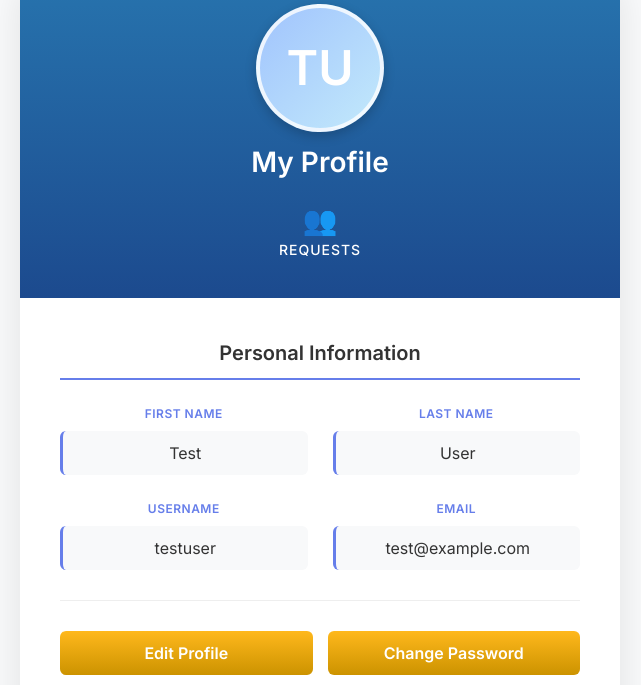
Test case: Profile Component › Viewing Own Profile › allows changing password
This screenshot has width=641, height=685.
Click the button "Change Password" at (454, 653), box x1=328 y1=631 x2=580 y2=675
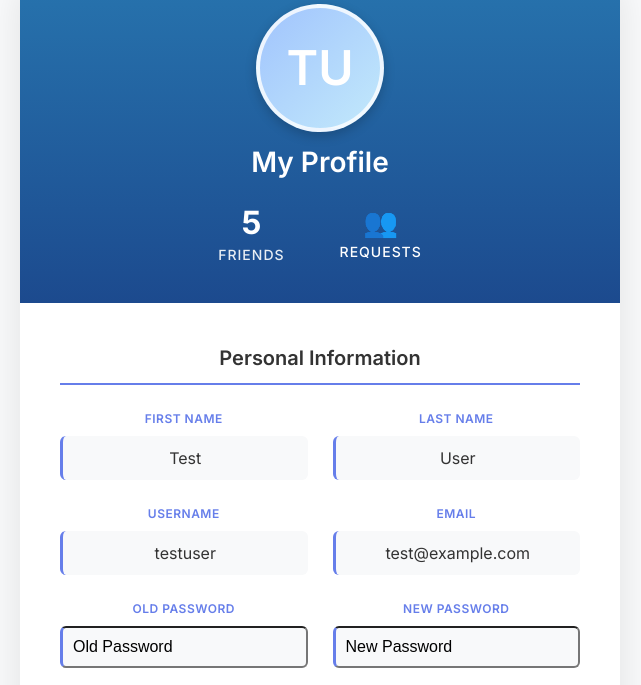
Type "old" into the password field with placeholder "Old Password" at (184, 647), box x1=60 y1=626 x2=308 y2=668
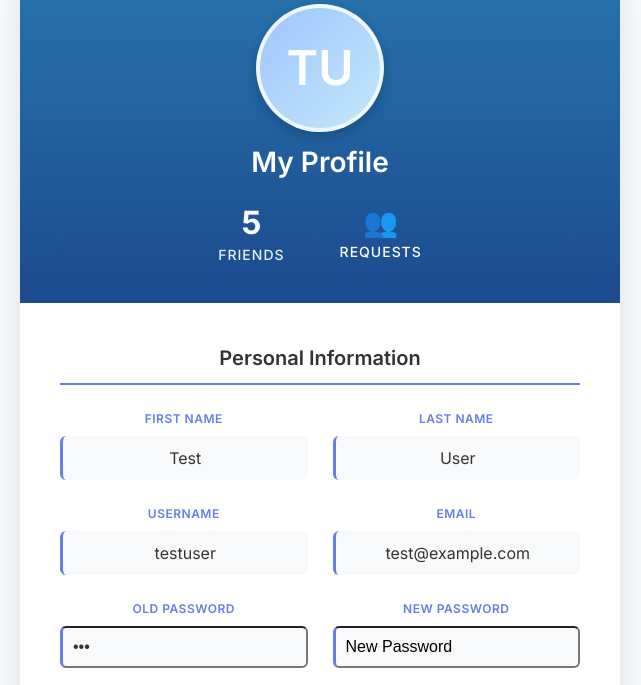
Type "new" into the password field with placeholder "New Password" at (456, 647), box x1=332 y1=626 x2=580 y2=668
(page scrolled)
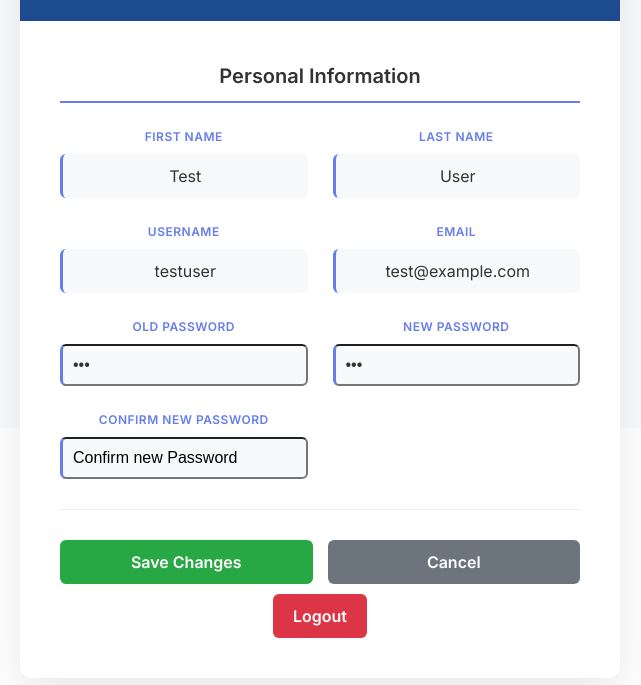
Type "new" into the password field with placeholder "Confirm new Password" at (184, 458), box x1=60 y1=437 x2=308 y2=479
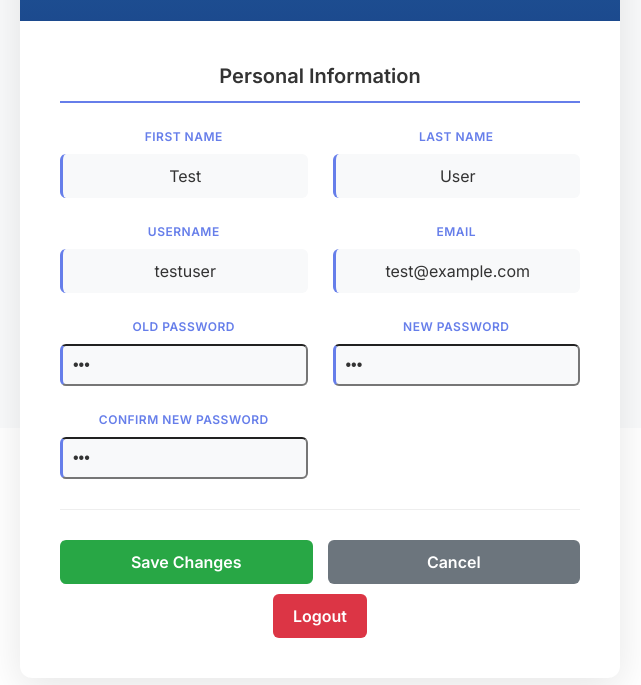
Click the button "Save Changes" at (186, 562), box x1=60 y1=540 x2=312 y2=584
(page scrolled)
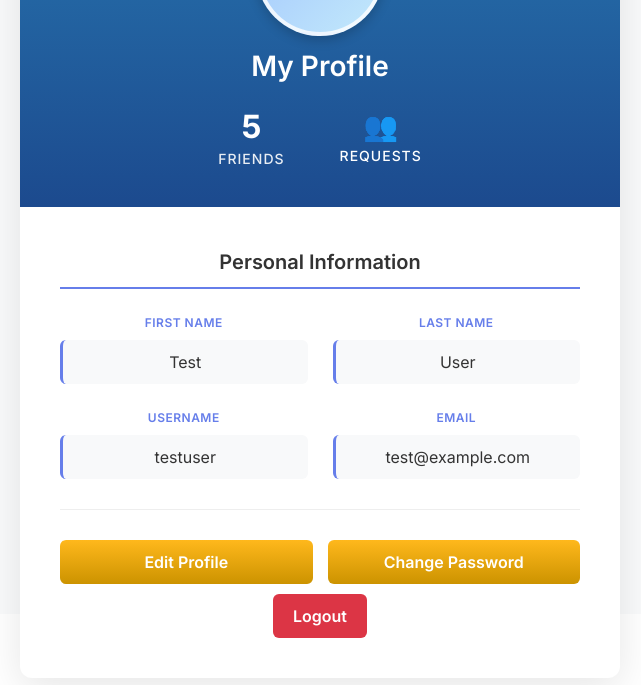
Expected: the label with placeholder "Old Password" is gone
